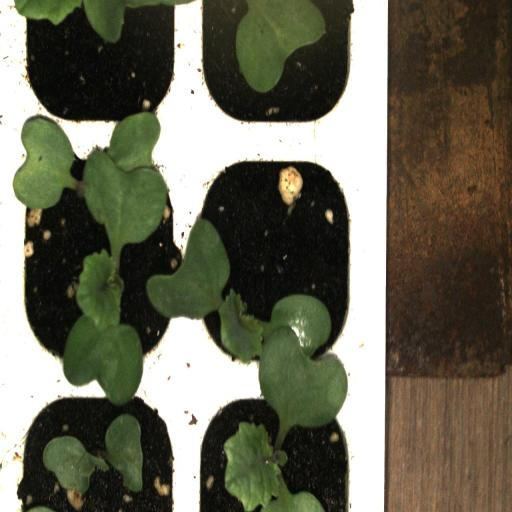seedling: (192, 141, 374, 378), (190, 382, 373, 512)
twoseedling: (14, 138, 190, 376)
